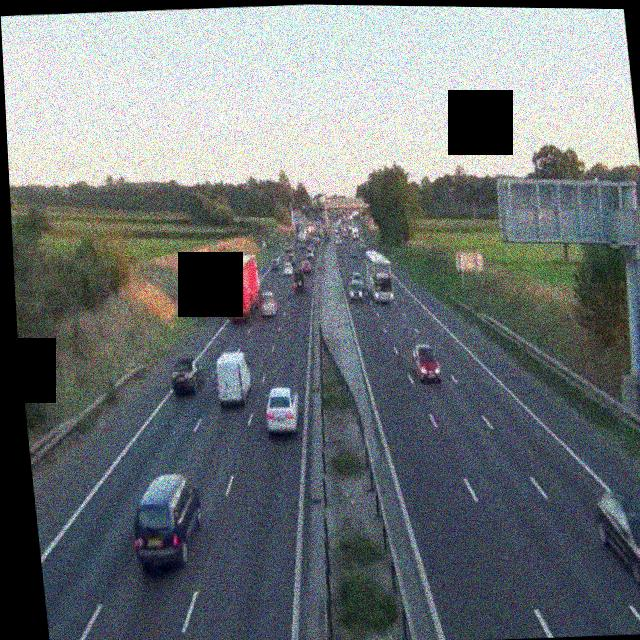car: (127, 473, 208, 574), (593, 485, 640, 598), (263, 387, 300, 435), (169, 355, 205, 396), (411, 342, 441, 383), (260, 292, 278, 317), (348, 277, 364, 302), (292, 274, 307, 295), (283, 259, 295, 277), (301, 260, 312, 274), (349, 246, 359, 257), (334, 237, 341, 246)
truck: (219, 254, 263, 321), (360, 249, 396, 302)
